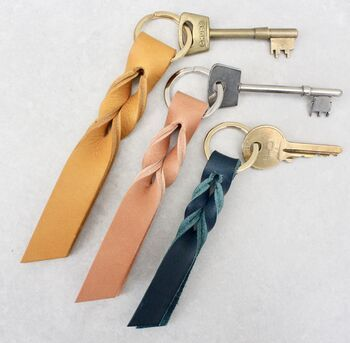cuero: (20, 31, 242, 329)
